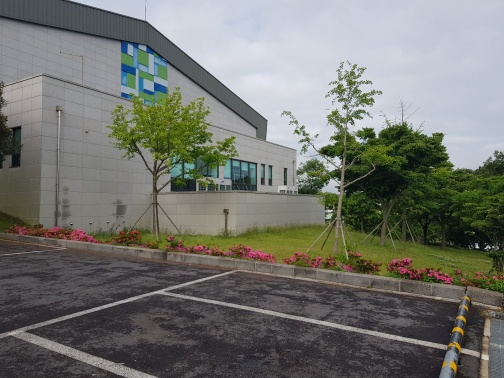Gym: (11, 8, 331, 227), (123, 33, 172, 114)
